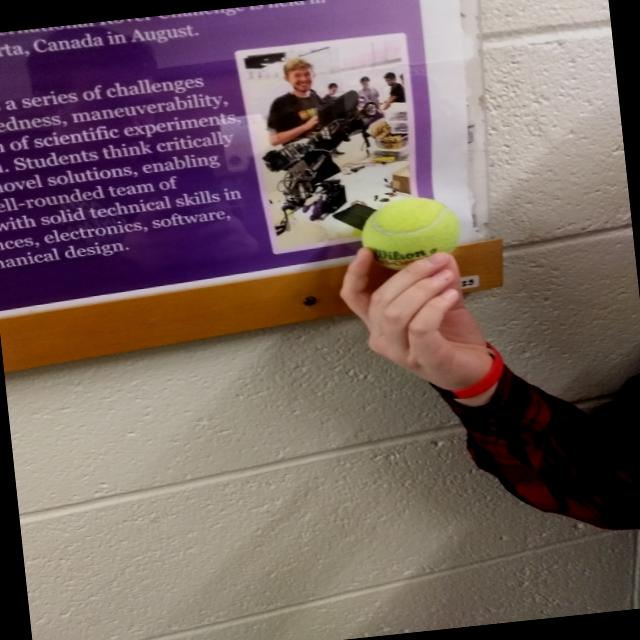Tennis Ball: (356, 192, 465, 274)
